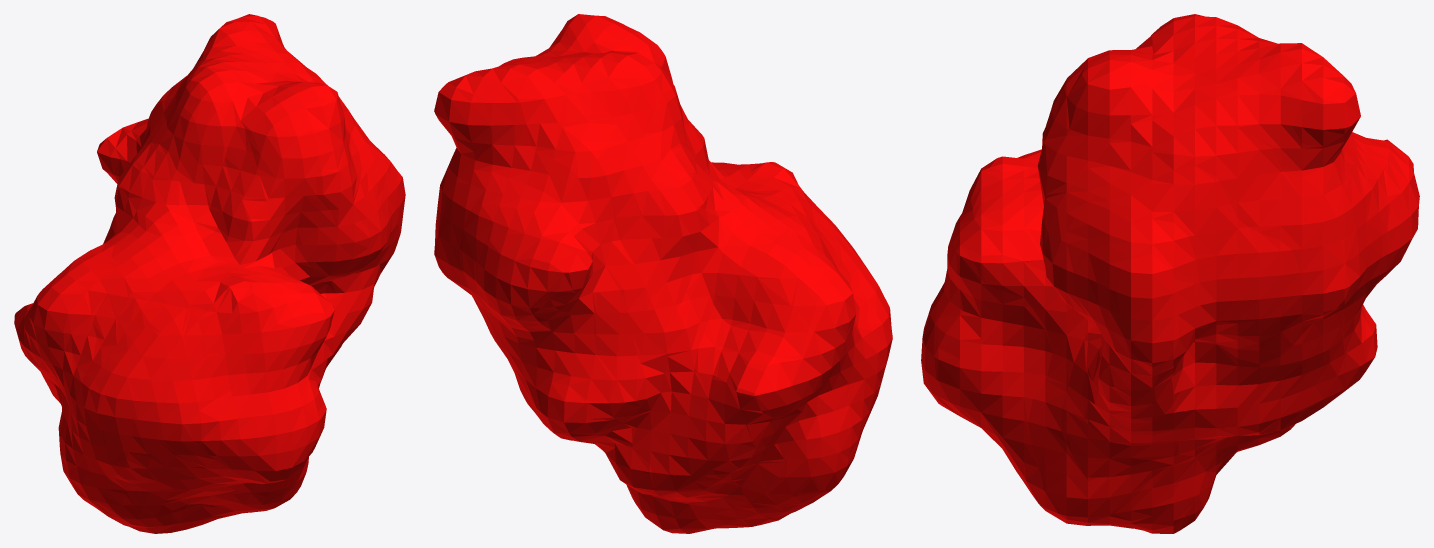
The model's file is phoB_coarse.dae.
3 renders of one model, left to right at view 1: azimuth 30°, elevation 25°; view 2: azimuth 150°, elevation 25°; view 3: azimuth 270°, elevation 25°, orthographic. The views are drawn at different scales.
Visible parts, largest first — view 1: phoB; view 2: phoB; view 3: phoB.
Part boxes in pixels (<box>): phoB: <box>14,14,405,533</box>; phoB: <box>434,14,892,533</box>; phoB: <box>921,14,1419,533</box>.
Bounding box in the file's own units: 50.54 × 58.19 × 48.69.
